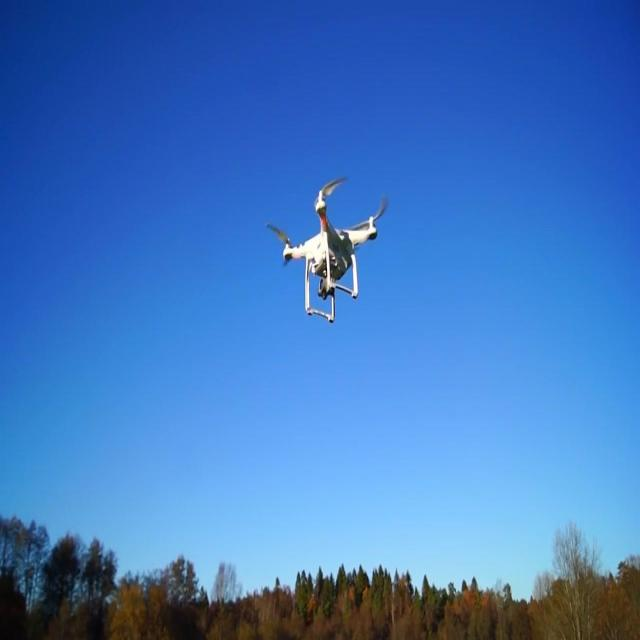drone: (266, 177, 386, 326)
